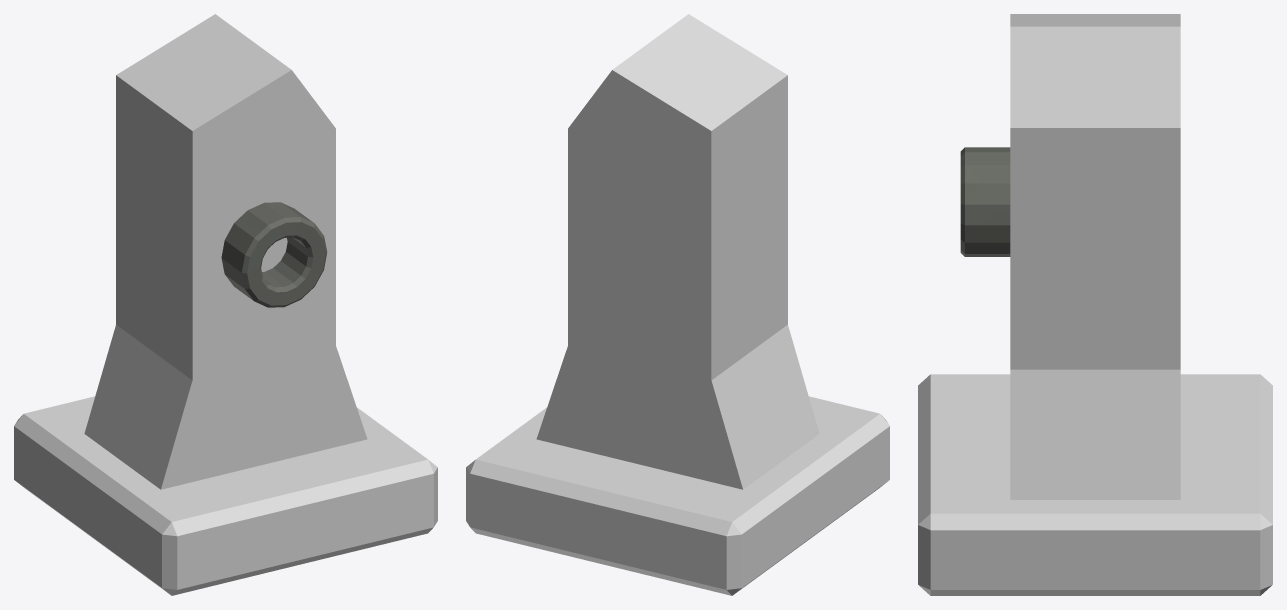
File: WarrensC_CCS23_WheelMountHousing_Mars_SM.fbx
3 views of the same model, side by side, from view 1: azimuth 30°, elevation 25°; view 2: azimuth 150°, elevation 25°; view 3: azimuth 270°, elevation 25° (orthographic). The views are drawn at different scales.
Visible parts, largest first — view 1: WarrensC_CCS23_WheelMountHousing_Mars_SM.001; view 2: WarrensC_CCS23_WheelMountHousing_Mars_SM.001; view 3: WarrensC_CCS23_WheelMountHousing_Mars_SM.001.
Boxes of the visible parts, bbox=[...] form: WarrensC_CCS23_WheelMountHousing_Mars_SM.001: bbox=[14, 14, 437, 595]; WarrensC_CCS23_WheelMountHousing_Mars_SM.001: bbox=[466, 14, 889, 595]; WarrensC_CCS23_WheelMountHousing_Mars_SM.001: bbox=[918, 14, 1272, 595].
Size of the model in its own units: 100 by 100 by 160.
